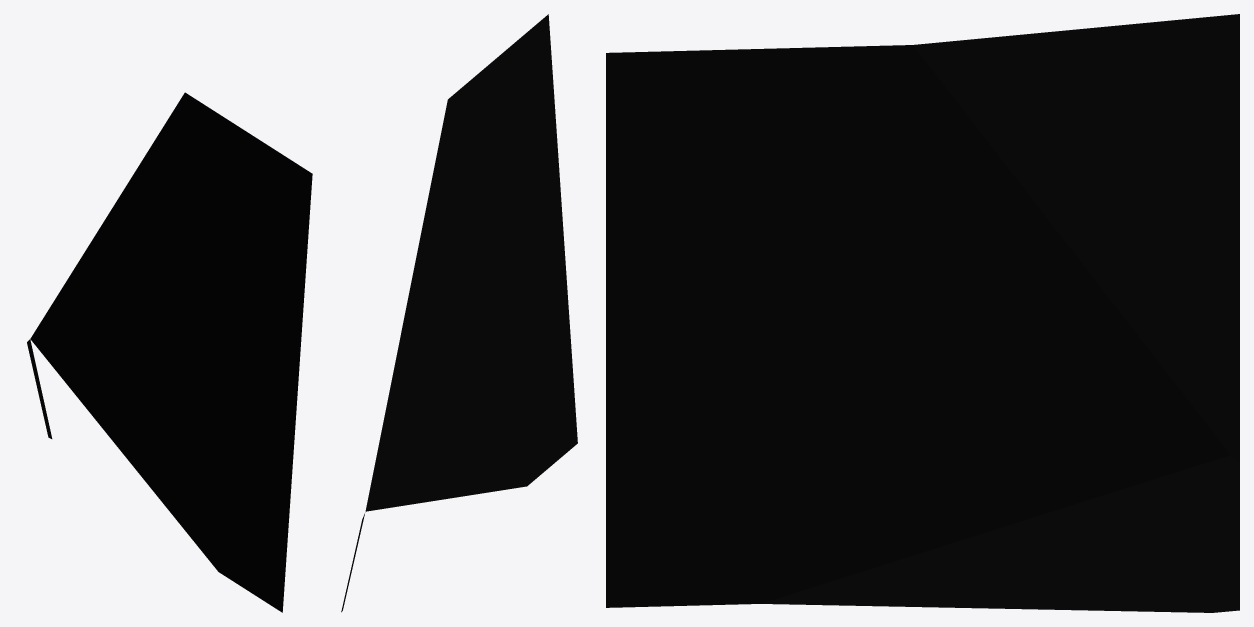
The picture shows the model from 3 angles, left to right: view 1: azimuth 30°, elevation 25°; view 2: azimuth 150°, elevation 25°; view 3: azimuth 270°, elevation 25°; orthographic projection. The views are drawn at different scales.
Size of the model in its own units: 0.4286 by 2.95 by 2.95.
Materials: 2 (2 with a texture image).
